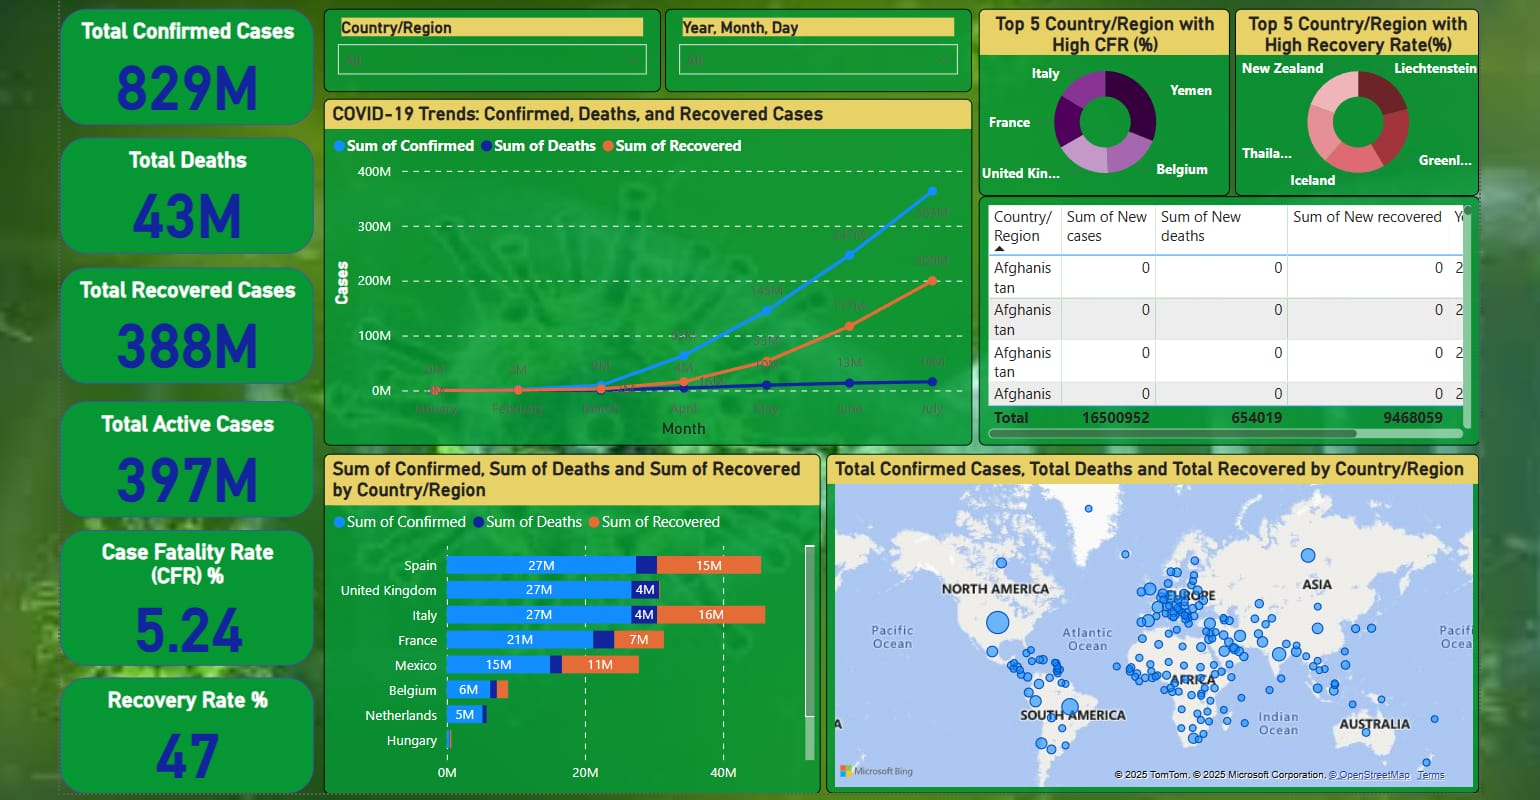

The page's visual inventory and layout, read from the dashboard file:
{"tool":"powerbi","page":{"name":"Dashboard ","canvas":[1280,720],"ordinal":1},"visuals":[{"type":"card","title":"Total Confirmed Cases","fields":{"Values":["full_grouped.Total Confirmed Cases"]},"box":[0,13,229,105.1],"z":0},{"type":"card","title":"Total Deaths","fields":{"Values":["full_grouped.Total Deaths"]},"box":[0,128.2,229,105.1],"z":1000},{"type":"card","title":"Total Recovered Cases","fields":{"Values":["full_grouped.Total Recovered"]},"box":[0,246.2,229,105.1],"z":2000},{"type":"card","title":"Total Active Cases","fields":{"Values":["full_grouped.Total Active Cases"]},"box":[0,365.8,229,105.1],"z":3000},{"type":"card","title":"Case Fatality Rate (CFR) %","fields":{"Values":["full_grouped.Fatality Rate(CFR)"]},"box":[0,482.4,229,122.4],"z":4000},{"type":"card","title":"Recovery Rate %","fields":{"Values":["full_grouped.Recovery Rate"]},"box":[0,614.9,229,105.1],"z":5000},{"type":"lineChart","title":"COVID-19  Trends: Confirmed, Deaths, and Recovered Cases","fields":{"Category":["full_grouped.Date.Variation.Date Hierarchy.Year","full_grouped.Date.Variation.Date Hierarchy.Month","full_grouped.Date.Variation.Date Hierarchy.Day"],"Y":["Sum(full_grouped.Confirmed)","Sum(full_grouped.Deaths)","Sum(full_grouped.Recovered)"]},"box":[237.6,93.6,584.6,312.5],"z":6000},{"type":"slicer","fields":{"Values":["full_grouped.Date.Variation.Date Hierarchy.Year","full_grouped.Date.Variation.Date Hierarchy.Month","full_grouped.Date.Variation.Date Hierarchy.Day"]},"box":[545.8,13,276.5,74.9],"z":7000},{"type":"barChart","fields":{"Category":["full_grouped.Country/Region"],"Y":["Sum(full_grouped.Confirmed)","Sum(full_grouped.Deaths)","Sum(full_grouped.Recovered)"]},"box":[237.3,413.5,448.2,306.8],"z":8000},{"type":"donutChart","title":"Top 5 Country/Region with High CFR (%)","fields":{"Category":["full_grouped.Country/Region"],"Y":["full_grouped.Fatality Rate(CFR)"]},"box":[828,13,226.1,168.5],"z":9000},{"type":"slicer","fields":{"Values":["full_grouped.Country/Region"]},"box":[237.6,13,303.8,74.9],"z":10000},{"type":"donutChart","title":"Top 5 Country/Region with High Recovery Rate(%)","fields":{"Category":["full_grouped.Country/Region"],"Y":["full_grouped.Recovery Rate"]},"box":[1059.8,13,220.3,168.5],"z":11000},{"type":"tableEx","fields":{"Values":["full_grouped.Country/Region","Sum(full_grouped.New cases)","Sum(full_grouped.New deaths)","Sum(full_grouped.New recovered)","full_grouped.Date.Variation.Date Hierarchy.Year","full_grouped.Date.Variation.Date Hierarchy.Month","full_grouped.Date.Variation.Date Hierarchy.Day"]},"box":[828,181.4,452.2,224.6],"z":12000},{"type":"map","fields":{"Category":["full_grouped.Country/Region"],"Size":["full_grouped.Total Confirmed Cases"]},"box":[691.2,413.3,589,306.7],"z":13000}]}

Visuals, with their boxes on the page's 1280x720 design canvas (x1, y1, x2, y2). These are canvas units, not pixel positions in the 1540x800 screenshot, which may show the page scaled, cropped or inside an application window:
"Total Confirmed Cases" card: (0,13,229,118)
"Total Deaths" card: (0,128,229,233)
"Total Recovered Cases" card: (0,246,229,351)
"Total Active Cases" card: (0,366,229,471)
"Case Fatality Rate (CFR) %" card: (0,482,229,605)
"Recovery Rate %" card: (0,615,229,720)
"COVID-19  Trends: Confirmed, Deaths, and Recovered Cases" lineChart: (238,94,822,406)
slicer - full_grouped.Date.Variation.Date Hierarchy.Year x full_grouped.Date.Variation.Date Hierarchy.Month: (546,13,822,88)
barChart - full_grouped.Country/Region x Sum(full_grouped.Confirmed): (237,414,686,720)
"Top 5 Country/Region with High CFR (%)" donutChart: (828,13,1054,182)
slicer - full_grouped.Country/Region: (238,13,541,88)
"Top 5 Country/Region with High Recovery Rate(%)" donutChart: (1060,13,1280,182)
tableEx - full_grouped.Country/Region x Sum(full_grouped.New cases): (828,181,1280,406)
map - full_grouped.Country/Region x full_grouped.Total Confirmed Cases: (691,413,1280,720)
